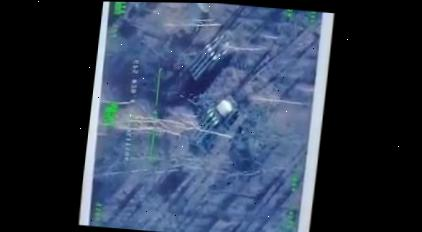rszo: (185, 25, 239, 85), (185, 92, 241, 149)
